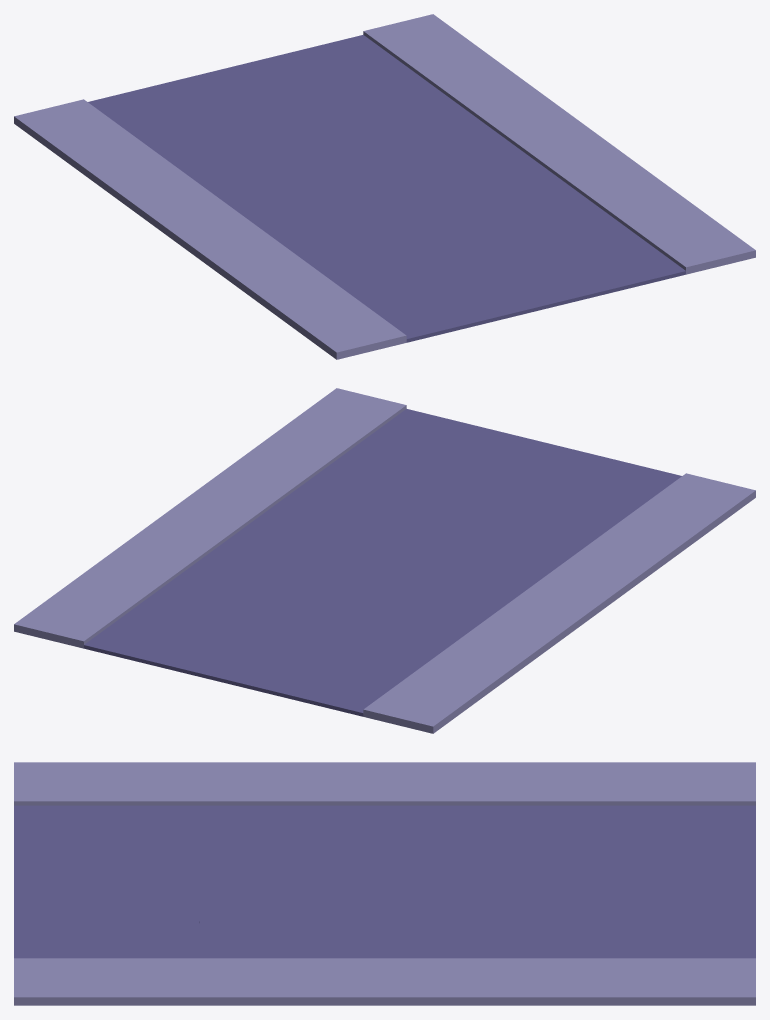
File: Road_Straight4.fbx
3 views of the same model, one above another, from view 1: azimuth 30°, elevation 25°; view 2: azimuth 150°, elevation 25°; view 3: azimuth 270°, elevation 25° (orthographic). The views are drawn at different scales.
Visible parts, largest first — view 1: mergedBlocks; view 2: mergedBlocks; view 3: mergedBlocks.
Boxes of the visible parts, left/top/right/bottom form: mergedBlocks: left=14, top=14, right=755, bottom=359; mergedBlocks: left=14, top=388, right=755, bottom=733; mergedBlocks: left=14, top=762, right=755, bottom=1005.
Bounding box in the file's own units: 150 × 2.5 × 200.
